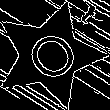O_SE: (15, 22, 83, 88)
